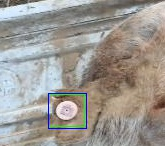text: (48, 94, 84, 126)
